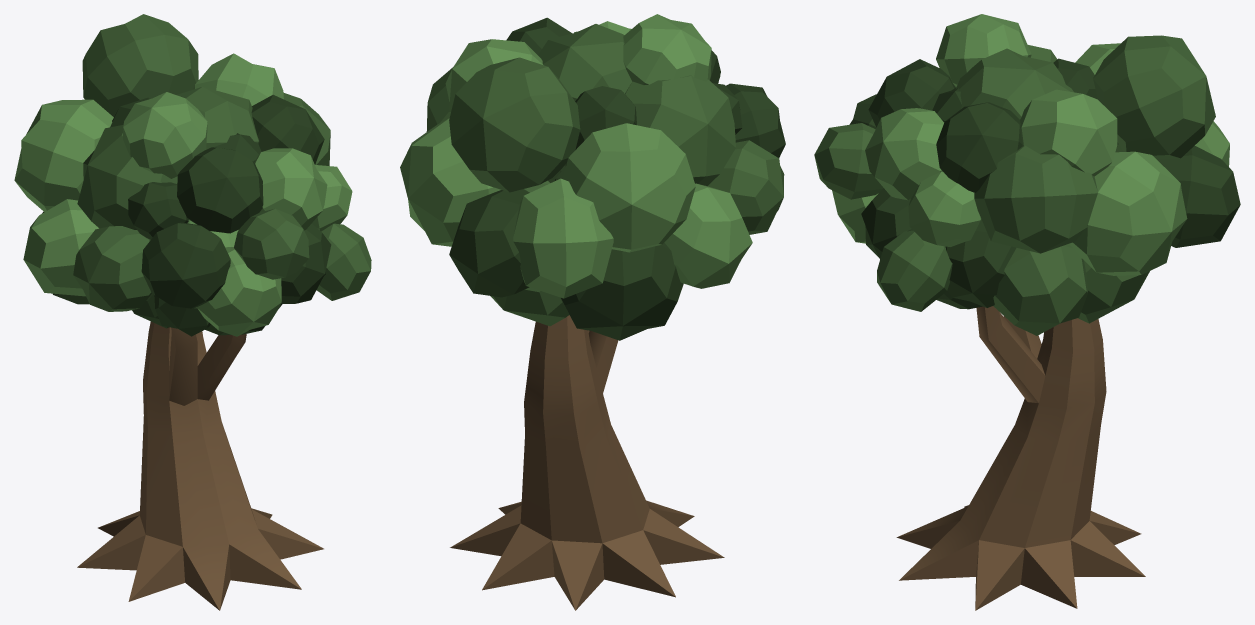
Rendered from arbre_2.fbx.
3 renders of one model, left to right at view 1: azimuth 30°, elevation 25°; view 2: azimuth 150°, elevation 25°; view 3: azimuth 270°, elevation 25°, orthographic. The views are drawn at different scales.
Parts seen in each view (by area): view 1: pCylinder47, polySurface47, polySurface51, polySurface53, polySurface43, polySurface39, polySurface57, polySurface46, polySurface56, polySurface45, polySurface62, polySurface52 (+10 smaller); view 2: pCylinder47, polySurface47, polySurface51, polySurface68, polySurface61, polySurface46, polySurface54, polySurface58, polySurface56, polySurface39, polySurface38, polySurface57 (+6 smaller); view 3: pCylinder47, polySurface47, polySurface54, polySurface67, polySurface59, polySurface44, polySurface41, polySurface45, polySurface58, polySurface38, polySurface65, polySurface50 (+11 smaller).
Boxes of the visible parts, left/top/right/bottom form: pCylinder47: left=77, top=321, right=323, bottom=610; polySurface47: left=82, top=14, right=198, bottom=116; polySurface51: left=14, top=99, right=113, bottom=211; polySurface53: left=141, top=222, right=230, bottom=308; polySurface43: left=177, top=147, right=263, bottom=233; polySurface39: left=123, top=92, right=207, bottom=178; polySurface57: left=73, top=226, right=151, bottom=311; polySurface46: left=77, top=125, right=177, bottom=239; polySurface56: left=23, top=199, right=98, bottom=296; polySurface45: left=254, top=148, right=327, bottom=230; polySurface62: left=197, top=249, right=281, bottom=336; polySurface52: left=234, top=208, right=309, bottom=279; pCylinder47: left=450, top=315, right=724, bottom=610; polySurface47: left=449, top=57, right=580, bottom=192; polySurface51: left=562, top=123, right=695, bottom=252; polySurface68: left=513, top=178, right=613, bottom=298; polySurface61: left=560, top=242, right=683, bottom=340; polySurface46: left=625, top=75, right=735, bottom=186; polySurface54: left=400, top=118, right=500, bottom=246; polySurface58: left=449, top=189, right=529, bottom=297; polySurface56: left=664, top=183, right=752, bottom=288; polySurface39: left=623, top=14, right=711, bottom=84; polySurface38: left=538, top=24, right=631, bottom=100; polySurface57: left=707, top=140, right=784, bottom=234; pCylinder47: left=896, top=306, right=1145, bottom=610; polySurface47: left=1093, top=35, right=1215, bottom=159; polySurface54: left=1069, top=151, right=1187, bottom=275; polySurface67: left=974, top=145, right=1097, bottom=253; polySurface59: left=993, top=244, right=1087, bottom=335; polySurface44: left=1020, top=89, right=1117, bottom=176; polySurface41: left=936, top=102, right=1022, bottom=192; polySurface45: left=865, top=108, right=944, bottom=200; polySurface58: left=1157, top=145, right=1240, bottom=247; polySurface38: left=955, top=48, right=1073, bottom=119; polySurface65: left=877, top=230, right=952, bottom=311; polySurface50: left=908, top=171, right=981, bottom=246.
Size of the model in its own units: 4.93 by 8.02 by 5.98.
